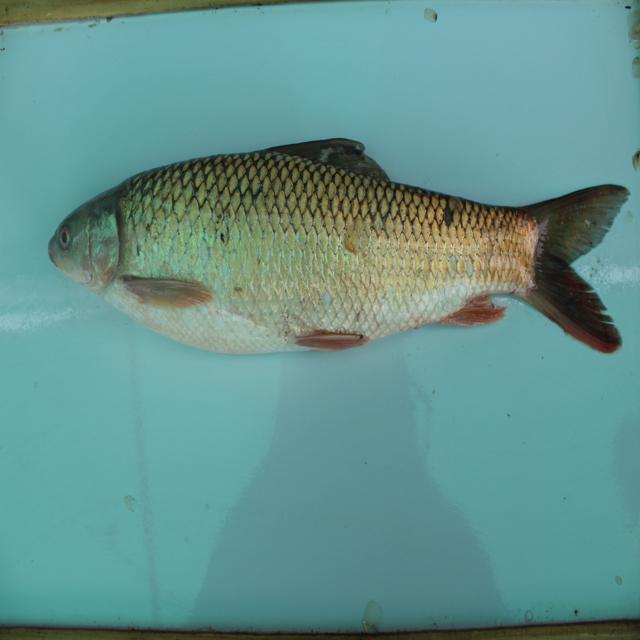Mori: (47, 146, 639, 372)
